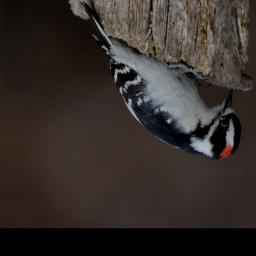Woodpecker: (78, 0, 243, 163)
